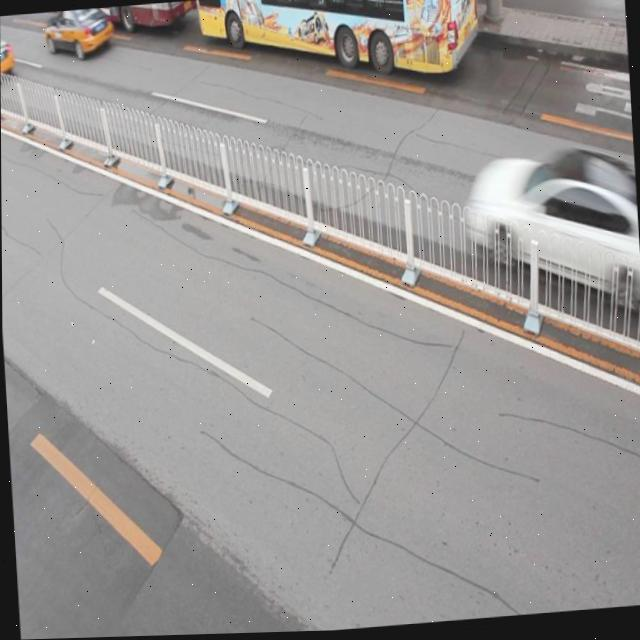car: (459, 146, 640, 327), (42, 8, 115, 61), (0, 22, 15, 84)
van: (192, 0, 482, 92), (37, 2, 195, 37)
